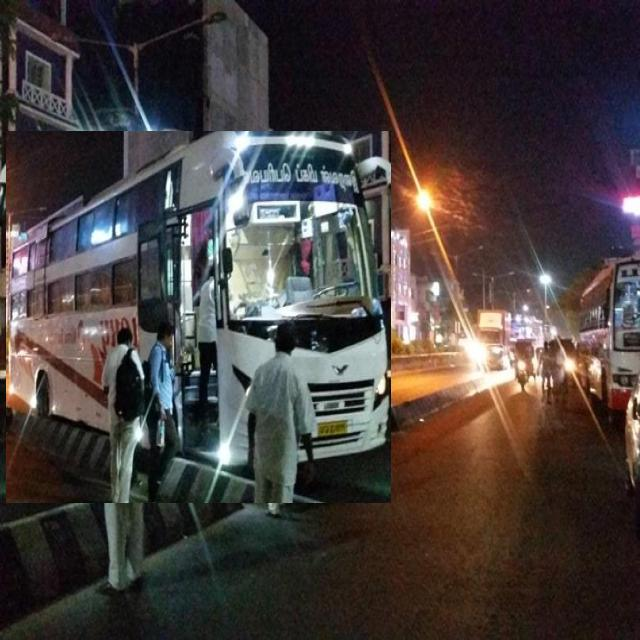bus: (6, 131, 391, 503)
